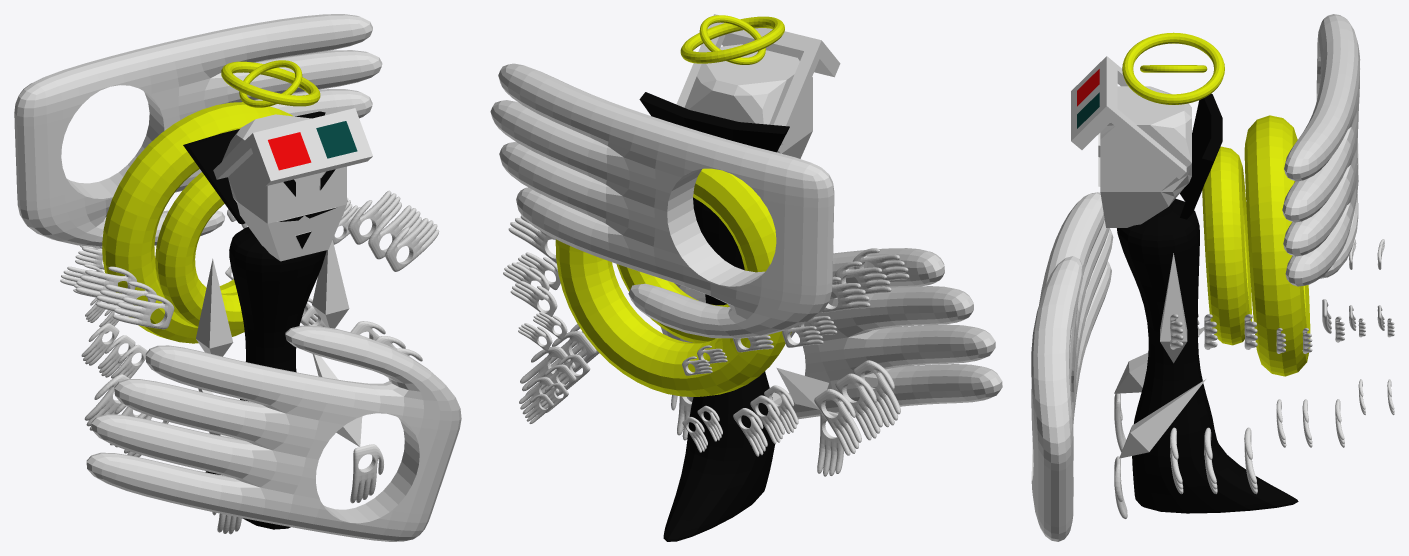
Rendered from Angel anonimus.fbx.
3 renders of one model, left to right at view 1: azimuth 30°, elevation 25°; view 2: azimuth 150°, elevation 25°; view 3: azimuth 270°, elevation 25°, orthographic. The views are drawn at different scales.
Parts seen in each view (by area): view 1: Cube.040, Cube.041, Torus.001, Cube.011, Cube, Cube.042, Torus, Torus.002, Cube.043, Cube.002, Cube.001, Cube.010 (+12 smaller); view 2: Cube.041, Cube.040, Torus.001, Cube, Cube.011, Cube.042, Cube.043, Torus.002, Cube.018, Cube.013, Cube.009, Torus (+16 smaller); view 3: Cube, Cube.040, Cube.041, Torus.001, Cube.011, Torus, Cube.042, Torus.002, Cube.043, Cube.004, Cube.001, Cube.003 (+6 smaller).
Part boxes in pixels (x1,y1,x2,y2): Cube.040: (86, 325, 461, 541); Cube.041: (14, 14, 382, 247); Torus.001: (102, 102, 292, 343); Cube.011: (222, 114, 346, 261); Cube: (205, 227, 326, 529); Cube.042: (213, 108, 372, 186); Torus: (155, 172, 244, 332); Torus.002: (221, 61, 320, 106); Cube.043: (183, 111, 325, 224); Cube.002: (196, 258, 233, 356); Cube.001: (312, 240, 349, 328); Cube.010: (112, 293, 174, 329); Cube.041: (490, 63, 834, 338); Cube.040: (661, 248, 1002, 421); Torus.001: (555, 168, 791, 396); Cube: (663, 197, 775, 541); Cube.011: (684, 44, 812, 158); Cube.042: (676, 14, 840, 144); Cube.043: (639, 92, 789, 152); Torus.002: (680, 16, 784, 63); Cube.018: (814, 389, 861, 455); Cube.013: (835, 373, 882, 440); Cube.009: (853, 360, 900, 427); Torus: (616, 264, 729, 343); Cube: (1117, 198, 1298, 513); Cube.040: (1031, 192, 1113, 541); Cube.041: (1282, 14, 1360, 286); Torus.001: (1244, 115, 1310, 376); Cube.011: (1098, 86, 1191, 227); Torus: (1202, 146, 1251, 345); Cube.042: (1071, 56, 1186, 179); Torus.002: (1122, 32, 1224, 104); Cube.043: (1180, 93, 1222, 219); Cube.004: (1119, 379, 1205, 458); Cube.001: (1160, 253, 1187, 363); Cube.003: (1114, 327, 1204, 393).
Bounding box in the file's own units: 987 × 1084 × 792.
